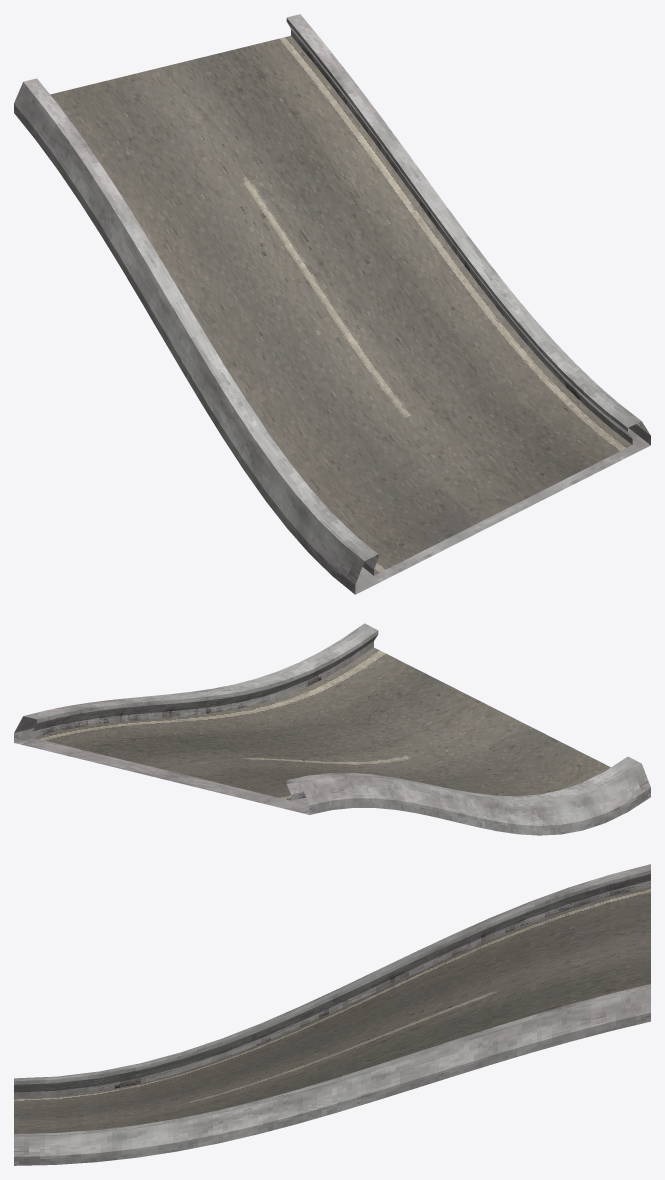
File: straight2.glb
The picture shows the model from 3 angles, top to bottom: view 1: azimuth 30°, elevation 25°; view 2: azimuth 150°, elevation 25°; view 3: azimuth 270°, elevation 25°; orthographic projection. The views are drawn at different scales.
Visible parts, largest first — view 1: road-Straight-HalfBankedLeft-BiSlopeUp-Up3-Center-Size2; view 2: road-Straight-HalfBankedLeft-BiSlopeUp-Up3-Center-Size2; view 3: road-Straight-HalfBankedLeft-BiSlopeUp-Up3-Center-Size2.
Part boxes in pixels (x1,y1,x2,y2): road-Straight-HalfBankedLeft-BiSlopeUp-Up3-Center-Size2: [14, 14, 650, 594]; road-Straight-HalfBankedLeft-BiSlopeUp-Up3-Center-Size2: [14, 623, 650, 835]; road-Straight-HalfBankedLeft-BiSlopeUp-Up3-Center-Size2: [14, 864, 650, 1165].
Bounding box in the file's own units: 1 × 0.8437 × 2.
Materials: 2 (2 with a texture image).
